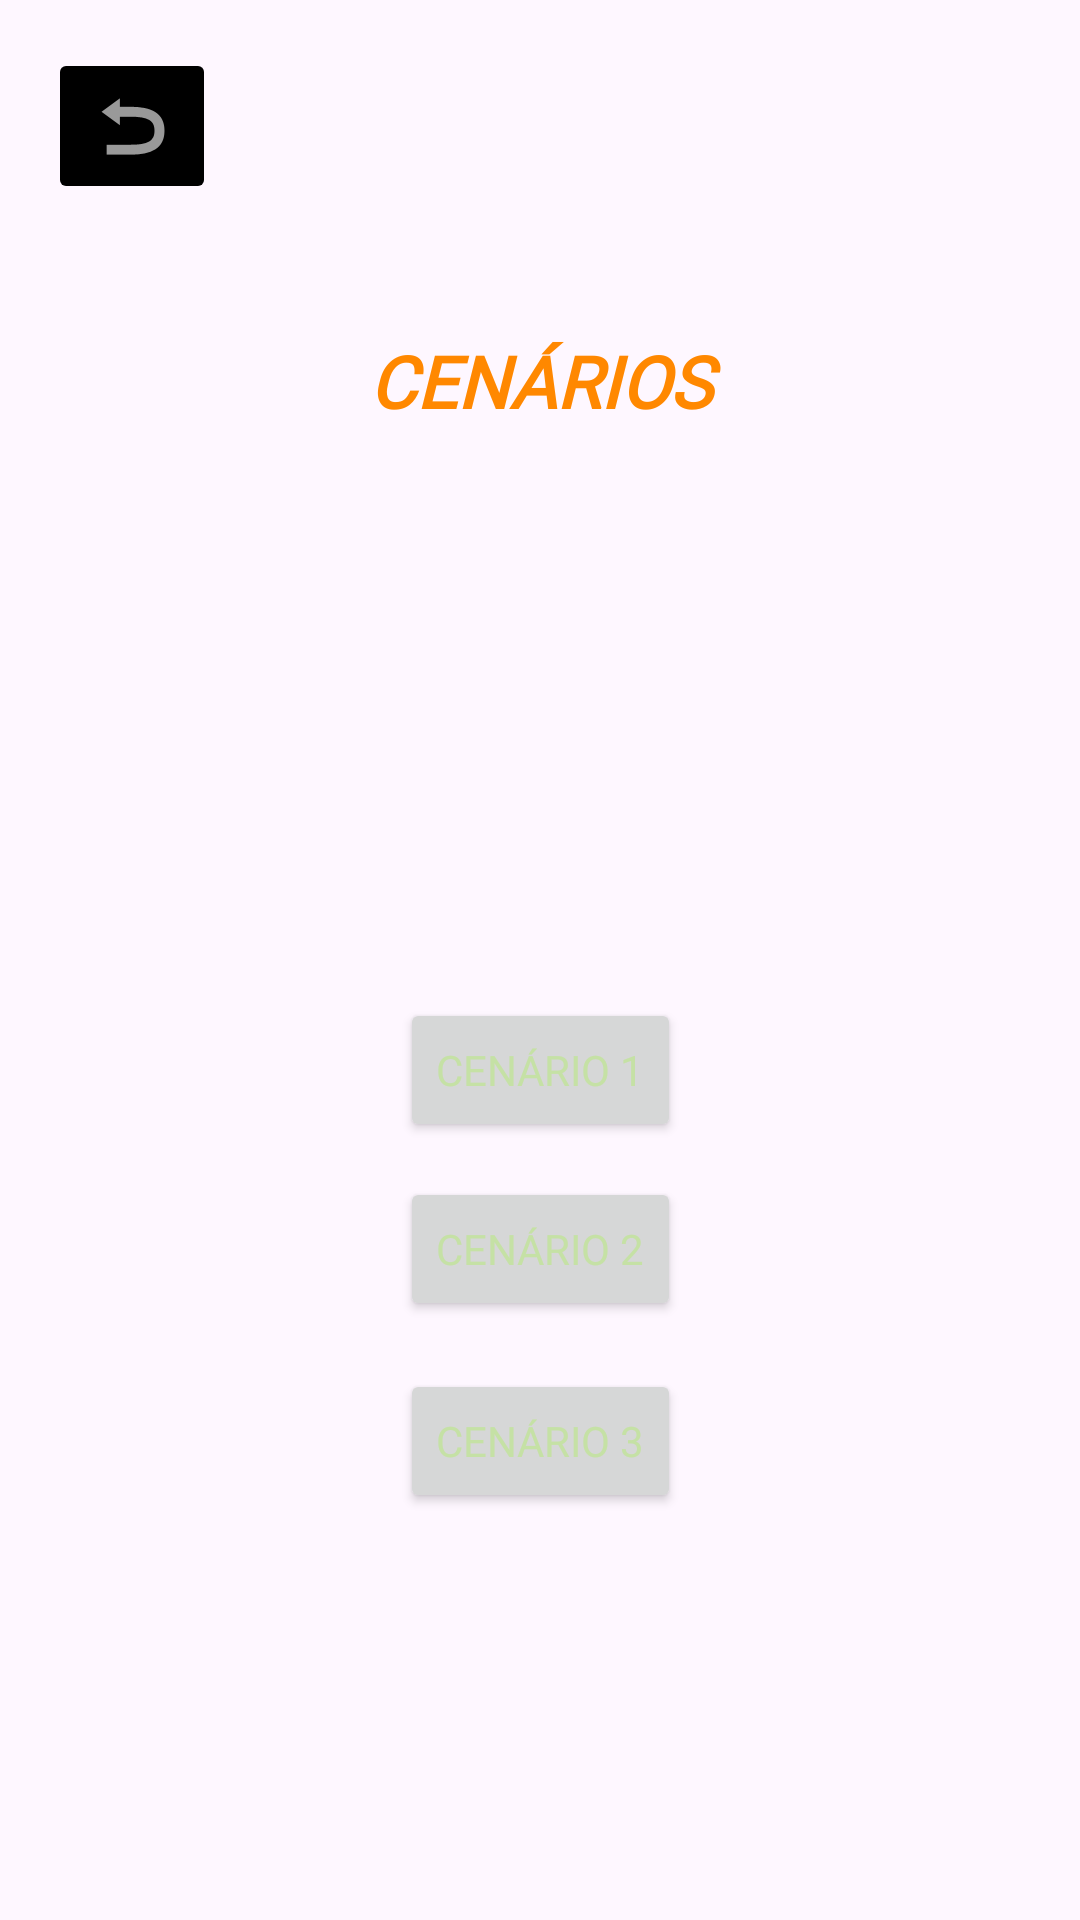

Icon bounding boxes for this 1080w x 1920h phone screenshot, format (x1, y1, x2, y2):
revert: (60, 66, 204, 186)
